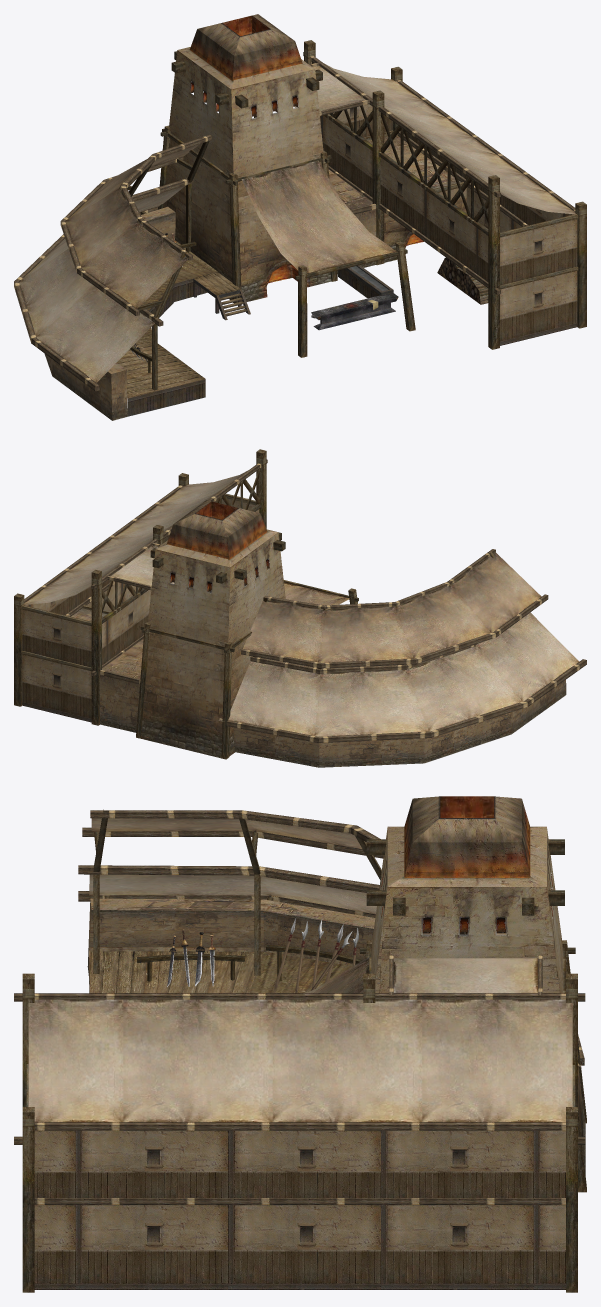
Rendered from w_cd_weapon.glb.
3 renders of one model, top to bottom at view 1: azimuth 30°, elevation 25°; view 2: azimuth 150°, elevation 25°; view 3: azimuth 270°, elevation 25°, orthographic. The views are drawn at different scales.
Parts seen in each view (by area): view 1: w_cd_weap_wall01, w_cd_weap_wall02_2sid, w_cd_weap_roof02, w_cd_weap_roof, w_cd_weap_wall02, w_cd_weap_pilla03, w_cd_weap_pilla02, w_cd_weap_pilla01, w_cd_weap_floor02, w_cd_weap_wood, w_cd_weap_floor01; view 2: w_cd_weap_wall01, w_cd_weap_roof, w_cd_weap_roof02, w_cd_weap_wall02_2sid, w_cd_weap_pilla02, w_cd_weap_pilla03, w_cd_weap_wall02, w_cd_weap_pilla01; view 3: w_cd_weap_wall02_2sid, w_cd_weap_roof, w_cd_weap_wall01, w_cd_weap_pilla02, w_cd_weap_pilla03, w_cd_weap_wall02, w_cd_weap_floor02, w_cd_weap_roof02, w_cd_weap_floor01, w_cd_weap.
Part boxes in pixels (x1,y1,x2,y2): w_cd_weap_wall01: (44,50,466,420); w_cd_weap_wall02_2sid: (320,104,577,345); w_cd_weap_roof02: (65,144,396,308); w_cd_weap_roof: (19,63,576,382); w_cd_weap_wall02: (127,14,466,416); w_cd_weap_pilla03: (99,40,586,390); w_cd_weap_pilla02: (14,52,575,391); w_cd_weap_pilla01: (312,62,488,235); w_cd_weap_floor02: (117,271,246,398); w_cd_weap_wood: (437,257,488,304); w_cd_weap_floor01: (135,240,217,343); w_cd_weap_wall01: (71,532,566,767); w_cd_weap_roof: (22,470,579,736); w_cd_weap_roof02: (243,552,541,662); w_cd_weap_wall02_2sid: (22,498,259,722); w_cd_weap_pilla02: (24,459,586,742); w_cd_weap_pilla03: (14,449,494,759); w_cd_weap_wall02: (156,500,277,567); w_cd_weap_pilla01: (102,469,261,623); w_cd_weap_wall02_2sid: (34,1130,565,1289); w_cd_weap_roof: (28,874,581,1122); w_cd_weap_wall01: (87,828,585,1174); w_cd_weap_pilla02: (14,810,585,1204); w_cd_weap_pilla03: (22,809,586,1292); w_cd_weap_wall02: (89,796,546,992); w_cd_weap_floor02: (89,951,263,993); w_cd_weap_roof02: (91,818,506,993); w_cd_weap_floor01: (250,951,352,993); w_cd_weap: (167,917,358,993).
Bounding box in the file's own units: 36.14 × 17.36 × 25.75.
Materials: 18 (18 with a texture image).
